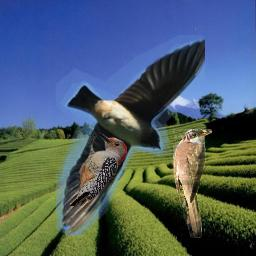Cuckoo: (173, 129, 212, 238)
Swallow: (56, 35, 205, 236)
Woodpecker: (70, 132, 127, 206)
